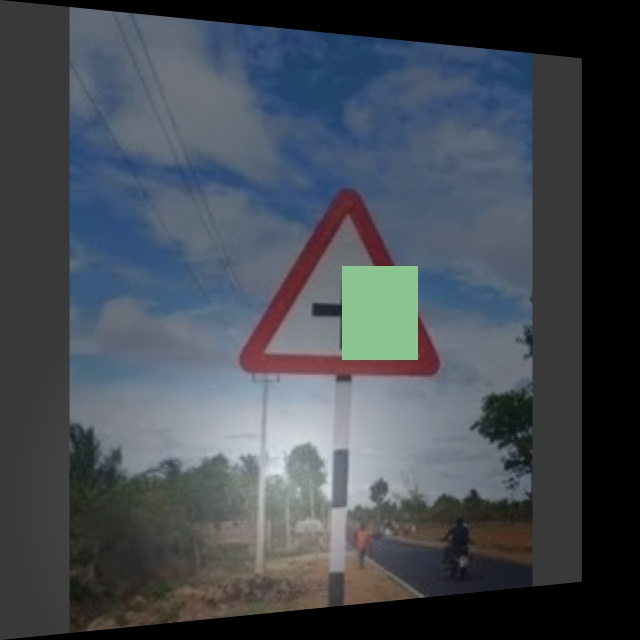Side_Road_Left: (238, 191, 447, 385)
